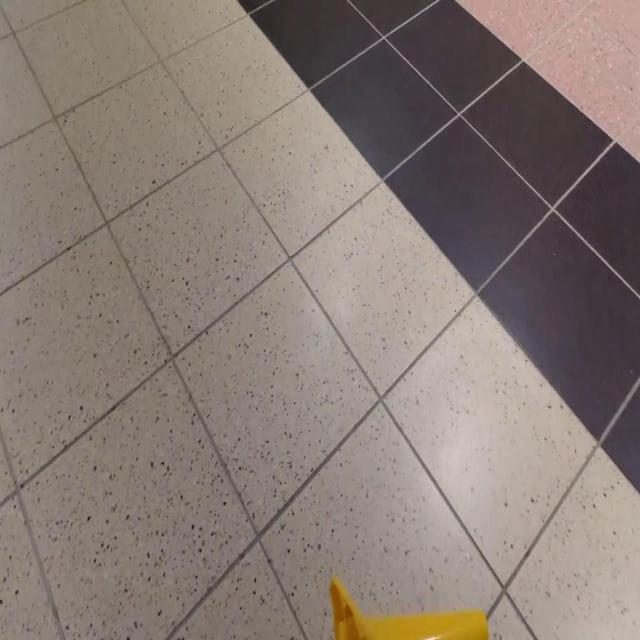frc_cone: (328, 578, 491, 640)
